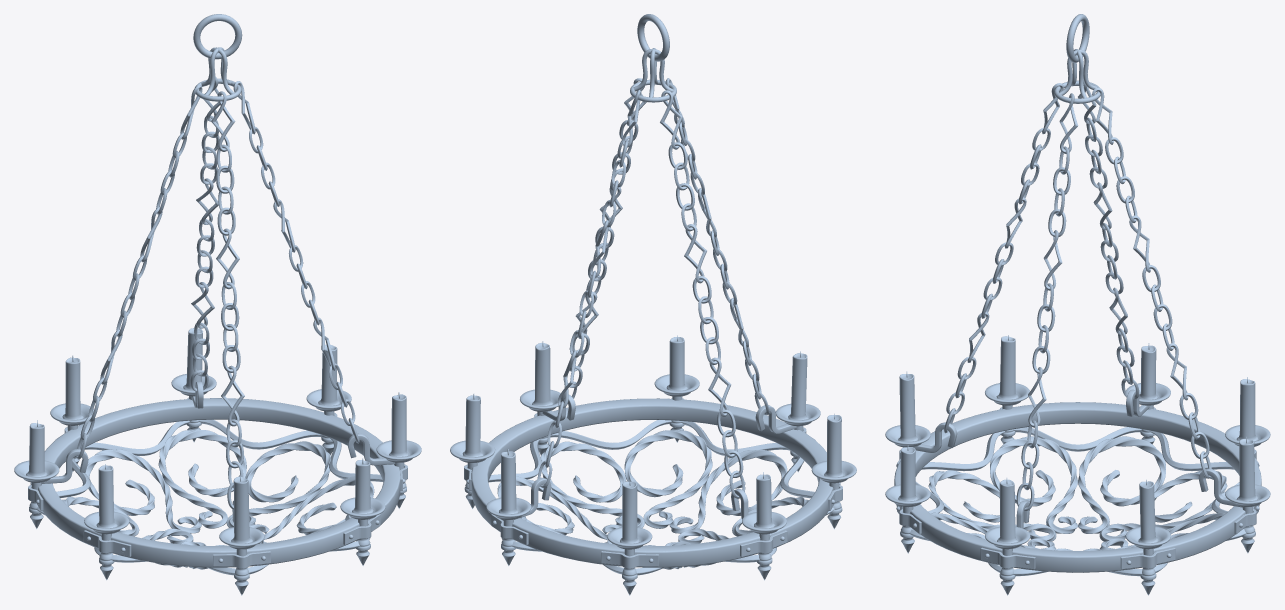
File: Chandelier.fbx
3 renders of one model, left to right at view 1: azimuth 30°, elevation 25°; view 2: azimuth 150°, elevation 25°; view 3: azimuth 270°, elevation 25°, orthographic.
Parts seen in each view (by area): view 1: Cylinder, BezierCircle.001, Arc.003, Cylinder.004, Cylinder.003, Plane, Cylinder.001, Cylinder.002, Cube, Torus.001, Circle; view 2: Cylinder, BezierCircle.001, Arc.003, Cylinder.004, Cylinder.003, Plane, Cylinder.001, Cylinder.002, Cube, Circle, Torus.001; view 3: BezierCircle.001, Cylinder, Arc.003, Cylinder.004, Cylinder.003, Plane, Cylinder.001, Cylinder.002, Cube, Circle, Torus.001.
Boxes of the visible parts, x1,y1,x2,y2 form: Cylinder: (38, 398, 400, 567); BezierCircle.001: (76, 76, 359, 509); Arc.003: (62, 430, 374, 569); Cylinder.004: (26, 328, 408, 543); Cylinder.003: (14, 374, 421, 549); Plane: (36, 419, 382, 575); Cylinder.001: (28, 397, 407, 568); Cylinder.002: (29, 396, 406, 595); Cube: (41, 381, 395, 521); Torus.001: (193, 14, 242, 59); Circle: (201, 47, 234, 95); Cylinder: (471, 398, 833, 567); BezierCircle.001: (537, 78, 769, 498); Arc.003: (497, 430, 808, 569); Cylinder.004: (462, 337, 843, 543); Cylinder.003: (450, 374, 856, 549); Plane: (489, 420, 834, 575); Cylinder.001: (464, 398, 842, 568); Cylinder.002: (464, 396, 842, 595); Cube: (520, 394, 796, 519); Circle: (633, 48, 673, 97); Torus.001: (637, 14, 669, 61); BezierCircle.001: (944, 78, 1211, 510); Cylinder: (894, 402, 1261, 572); Arc.003: (928, 436, 1227, 572); Cylinder.004: (898, 336, 1258, 543); Cylinder.003: (885, 383, 1270, 549); Plane: (909, 427, 1246, 576); Cylinder.001: (896, 407, 1259, 569); Cylinder.002: (900, 405, 1255, 595); Cube: (914, 389, 1242, 528); Circle: (1058, 49, 1096, 98); Torus.001: (1066, 14, 1089, 62).
Size of the model in its own units: 198 by 299 by 198.
